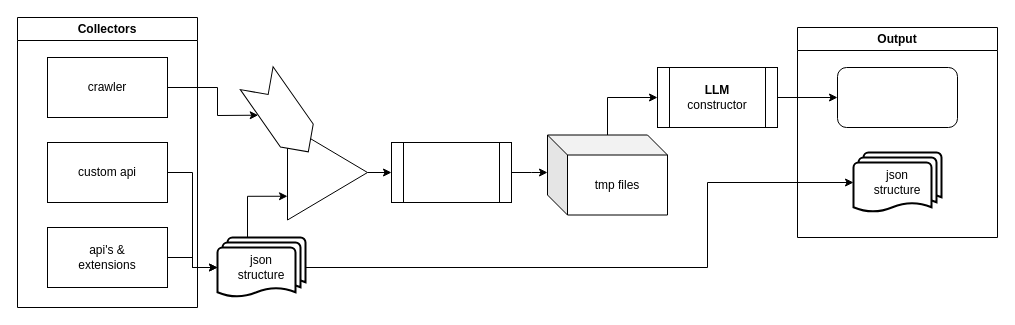
Some shapes in this 1015 by 325 pixel diagram are drawn without their labels. The shapes that lost their labels are listed below. From the top down, each one's centre as x and y in pixels, then its label:
At [282,115]: "html2txt".
At [897,97]: "Markdown report".
At [327,172]: "filter/ reduce".
At [451,172]: "LLM summarize".
